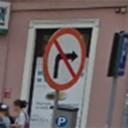NoVirarDireita: (37, 25, 91, 93)
